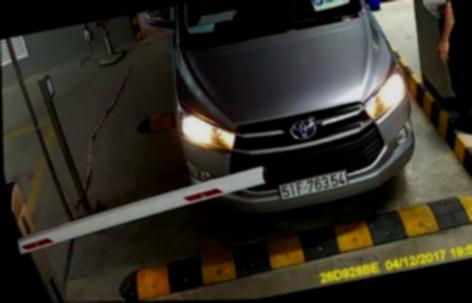License_Plate: (273, 167, 364, 208)
